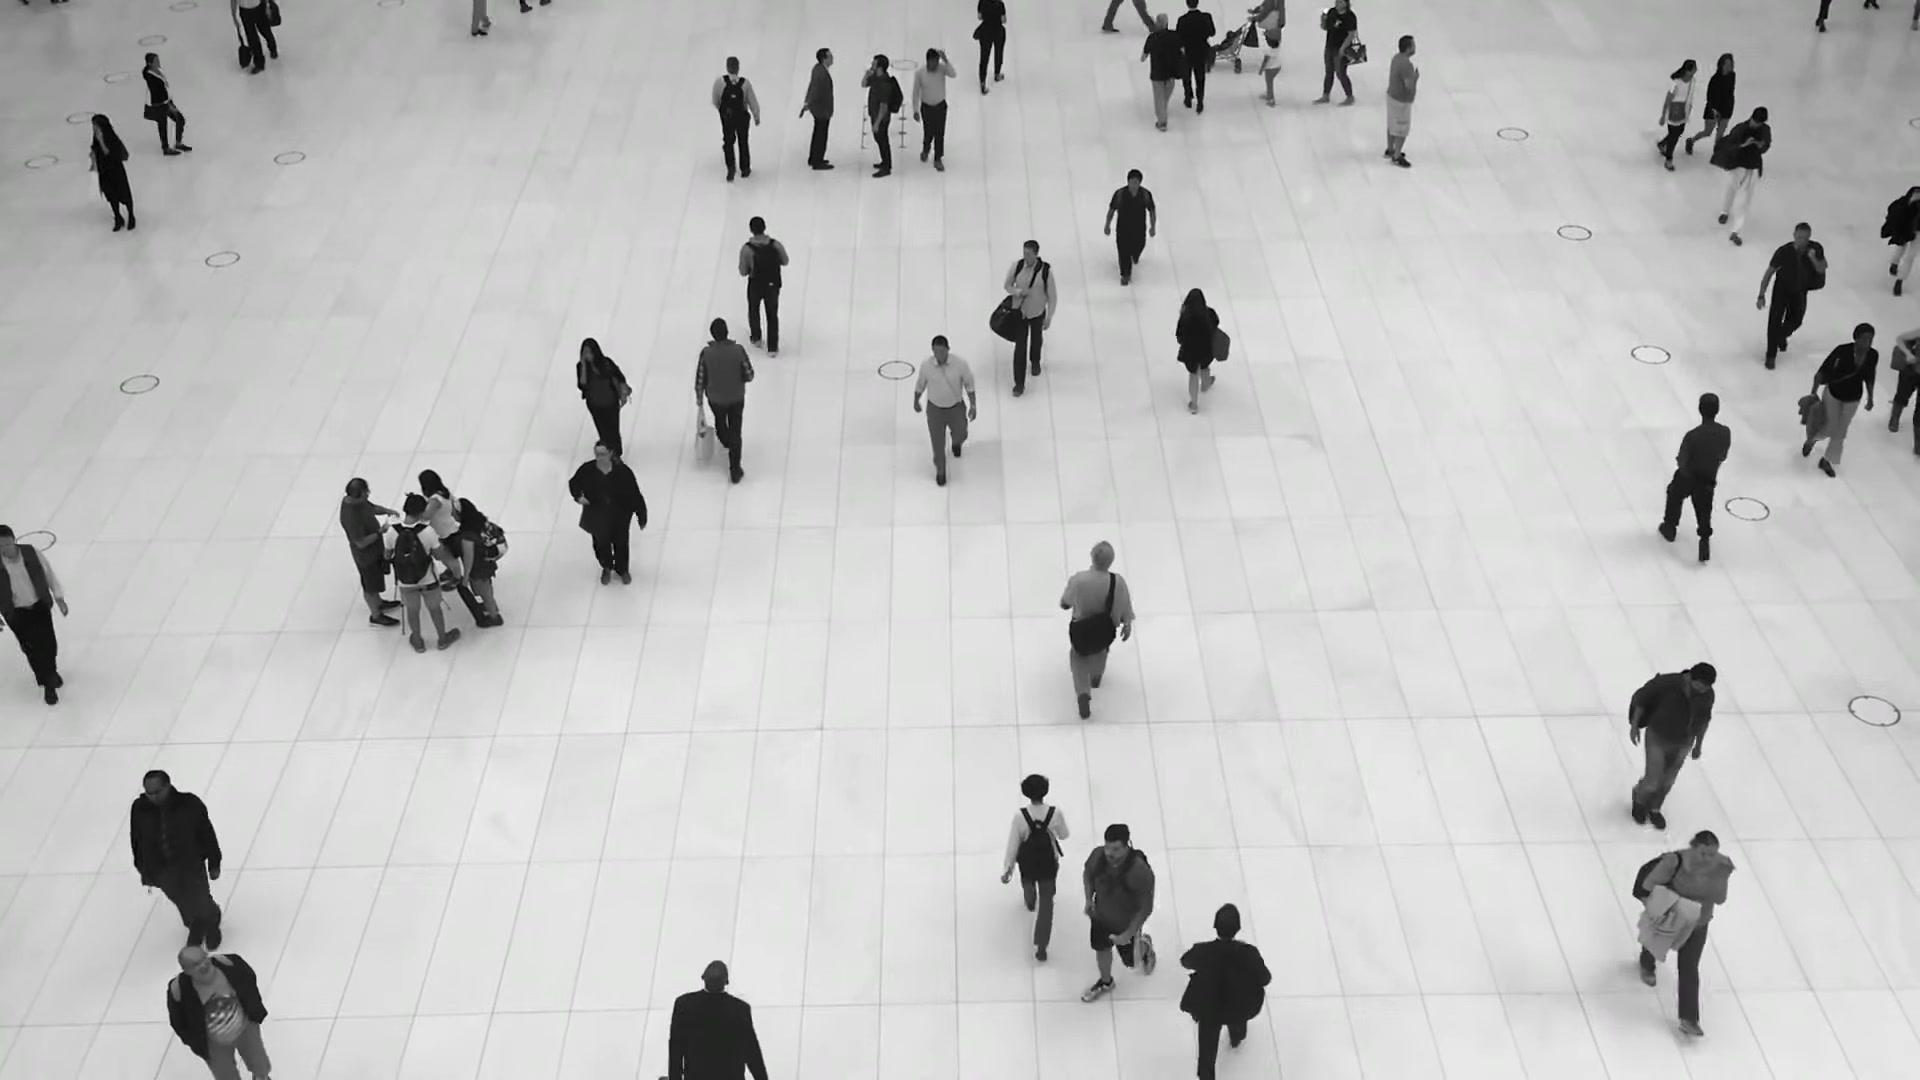person: (134, 773, 231, 969), (1619, 664, 1714, 840), (1177, 900, 1273, 1072), (1639, 830, 1731, 1004), (1076, 821, 1159, 1003), (1055, 541, 1135, 718), (168, 943, 271, 1079), (1659, 393, 1738, 567), (566, 442, 650, 596), (1800, 324, 1876, 489), (0, 525, 69, 703), (384, 494, 460, 652), (664, 960, 765, 1079), (1007, 773, 1072, 949), (1756, 225, 1827, 378), (917, 335, 980, 487), (339, 477, 402, 629), (694, 315, 752, 476), (1711, 104, 1771, 243), (1002, 238, 1056, 388), (737, 218, 790, 361), (1104, 168, 1159, 287), (451, 497, 503, 627), (705, 59, 756, 189), (576, 339, 633, 448), (1170, 287, 1220, 410), (142, 53, 200, 156), (88, 114, 136, 232), (910, 50, 954, 178), (1139, 12, 1186, 128), (1687, 54, 1734, 165), (1654, 59, 1700, 173), (860, 56, 902, 180), (417, 470, 459, 592), (1311, 0, 1358, 108), (1383, 34, 1420, 168), (1176, 0, 1216, 119), (799, 48, 835, 172), (973, 0, 1007, 96), (1247, 0, 1285, 72), (1256, 37, 1281, 106)
